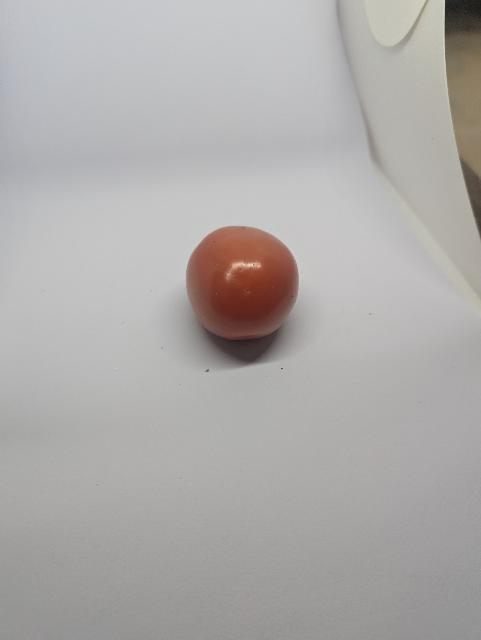red: (172, 219, 315, 359)
